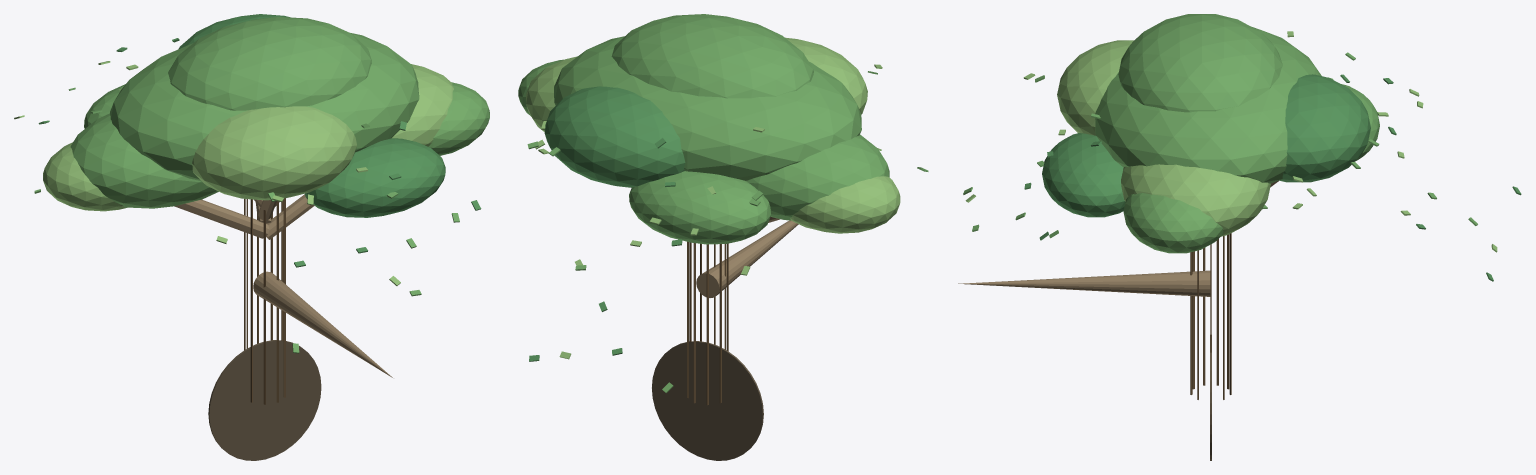
Rendered from niu_realistic_leafy_tree.glb.
The picture shows the model from 3 angles, left to right: view 1: azimuth 30°, elevation 25°; view 2: azimuth 150°, elevation 25°; view 3: azimuth 270°, elevation 25°; orthographic projection.
Visible parts, largest first — view 1: world; view 2: world; view 3: world.
Boxes of the visible parts, x1=… form: world: x1=14, y1=14, x2=489, y2=460; world: x1=518, y1=14, x2=928, y2=460; world: x1=958, y1=14, x2=1521, y2=460.
Size of the model in its own units: 7.6 by 7.73 by 9.34.
